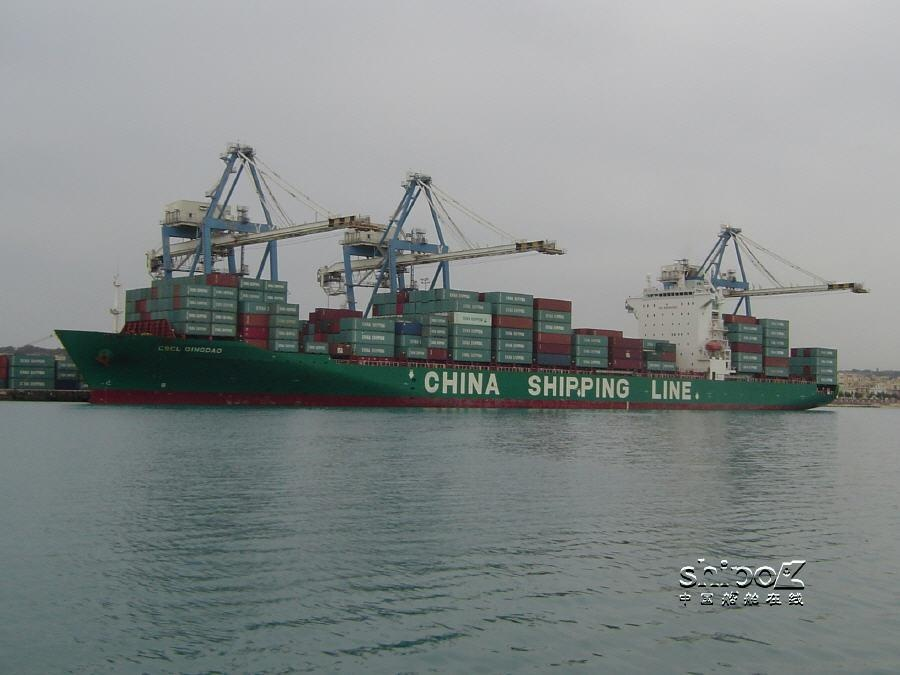Cargoship: (48, 145, 875, 418)
